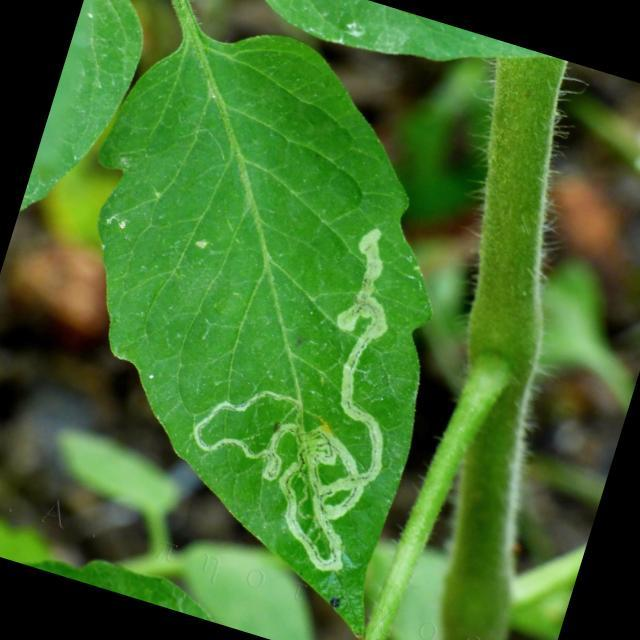Tomato target spot leaf: (0, 2, 529, 640)
